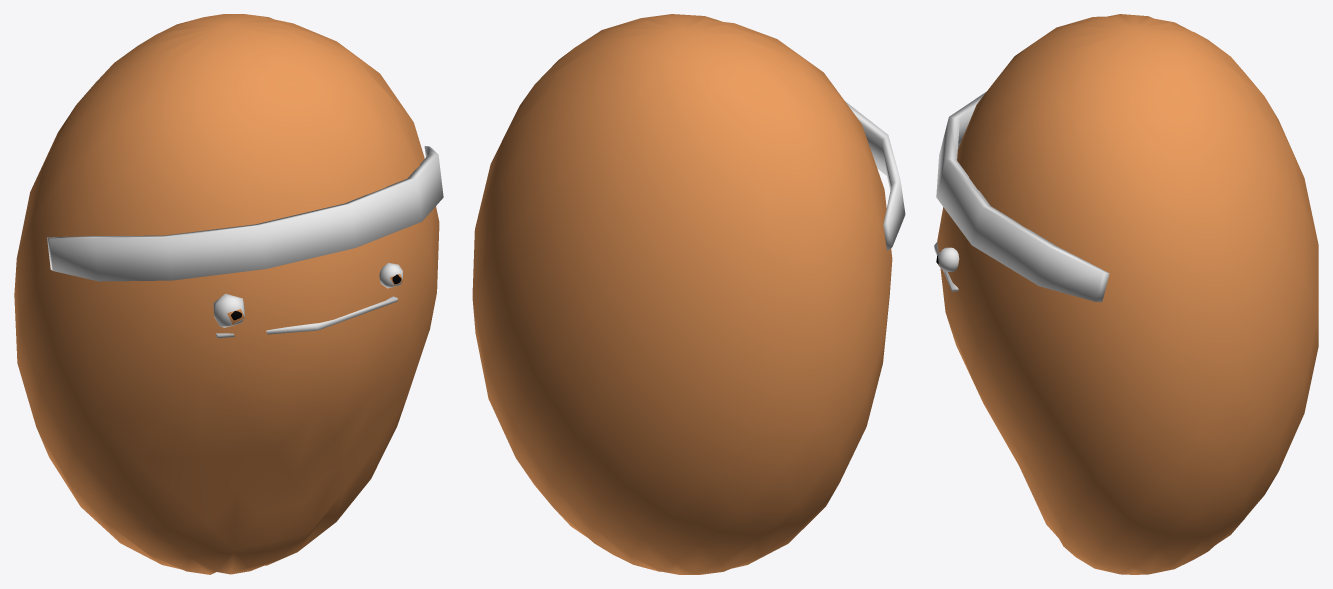
The model's file is Chef.fbx.
3 views of the same model, side by side, from view 1: azimuth 30°, elevation 25°; view 2: azimuth 150°, elevation 25°; view 3: azimuth 270°, elevation 25° (orthographic).
Parts seen in each view (by area): view 1: Sphere.010; view 2: Sphere.010; view 3: Sphere.010.
Boxes of the visible parts, left/top/right/bottom form: Sphere.010: left=14, top=14, right=443, bottom=574; Sphere.010: left=472, top=14, right=905, bottom=574; Sphere.010: left=934, top=14, right=1318, bottom=574.
Size of the model in its own units: 340 by 457 by 299.
